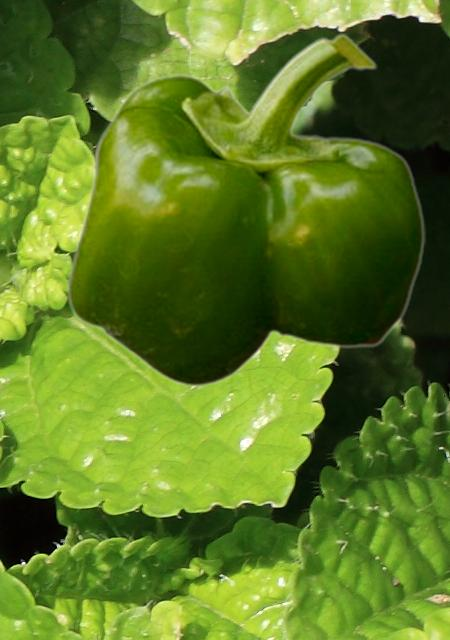bell_pepper: (66, 33, 424, 387)
